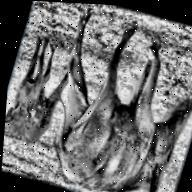boar: (28, 1, 192, 192)
